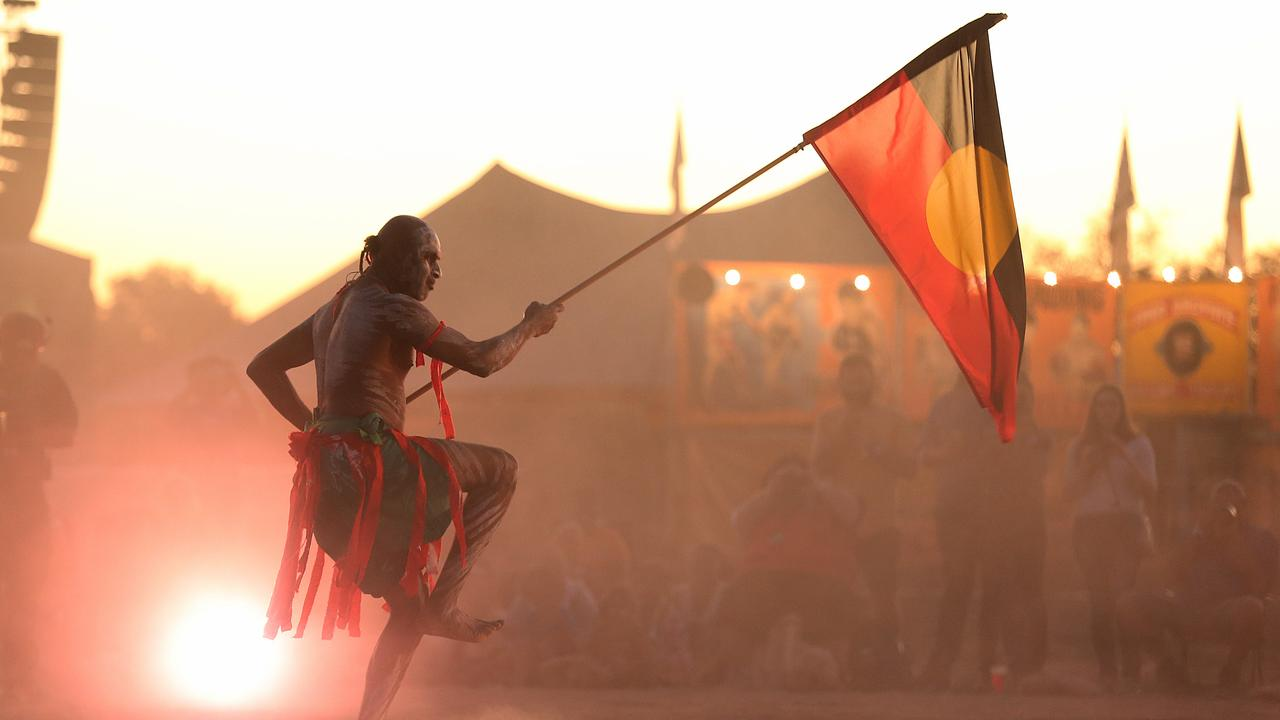aboriginal_flag: (793, 12, 1039, 454)
